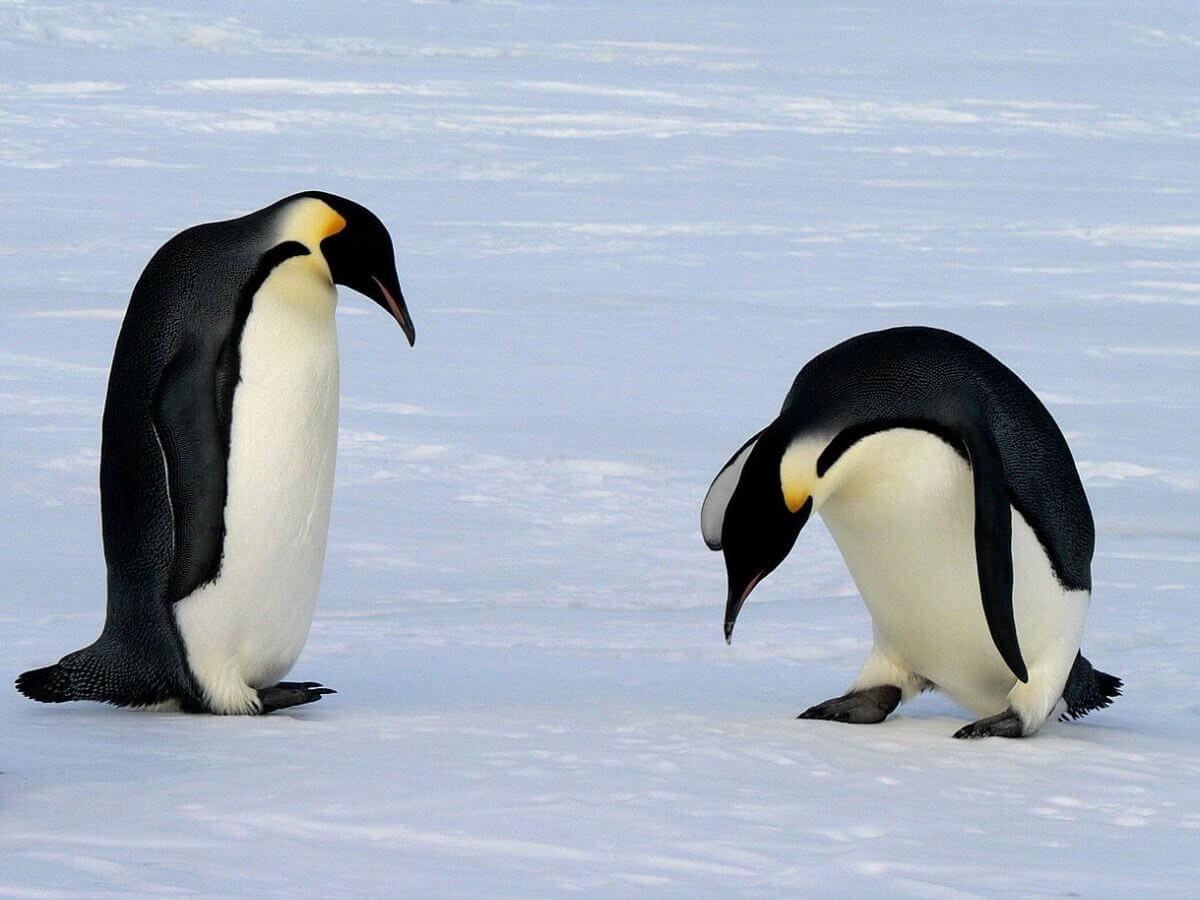emporer: (619, 274, 1150, 785), (13, 174, 416, 766)
